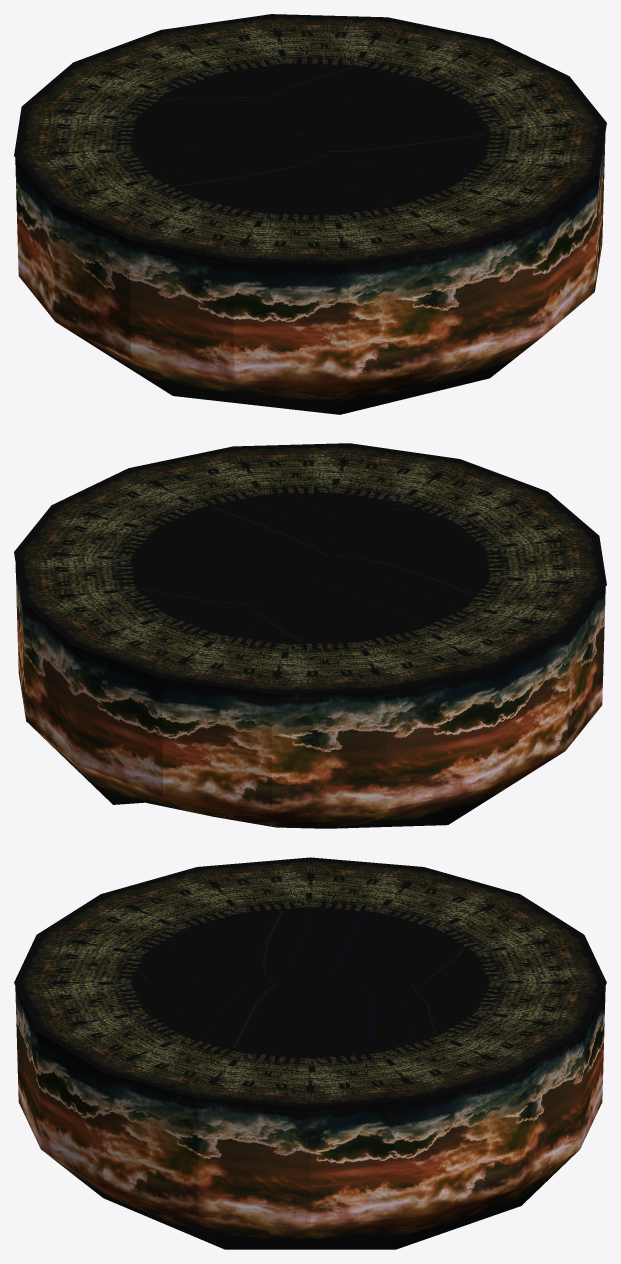
Rendered from Skybox 2.obj.
The picture shows the model from 3 angles, top to bottom: view 1: azimuth 30°, elevation 25°; view 2: azimuth 150°, elevation 25°; view 3: azimuth 270°, elevation 25°; orthographic projection.
Visible parts, largest first — view 1: Object_2; view 2: Object_2; view 3: Object_2.
Part boxes in pixels (x1,y1,x2,y2): Object_2: (14, 14, 606, 414); Object_2: (14, 443, 606, 828); Object_2: (14, 857, 606, 1249).
Size of the model in its own units: 71959 by 25060 by 71959.
